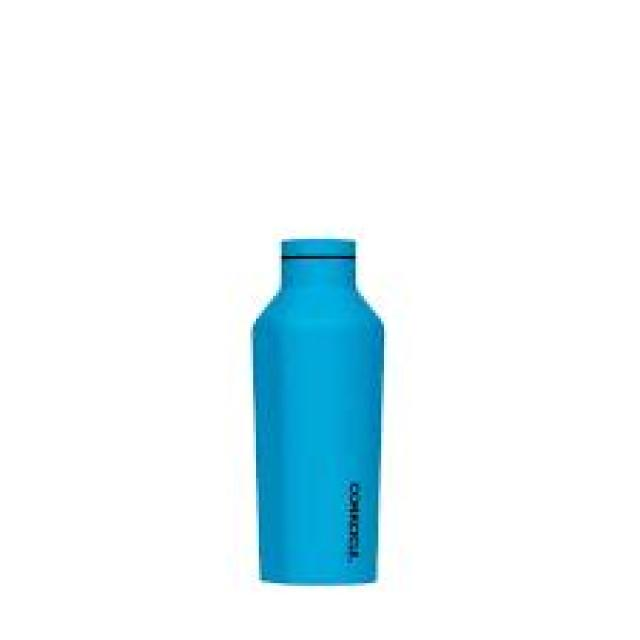bottle: (249, 239, 385, 589)
